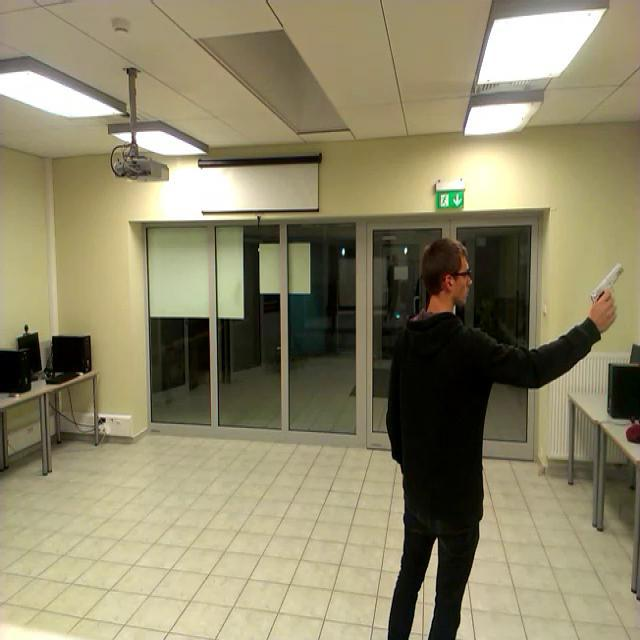Gun: (590, 262, 624, 317)
